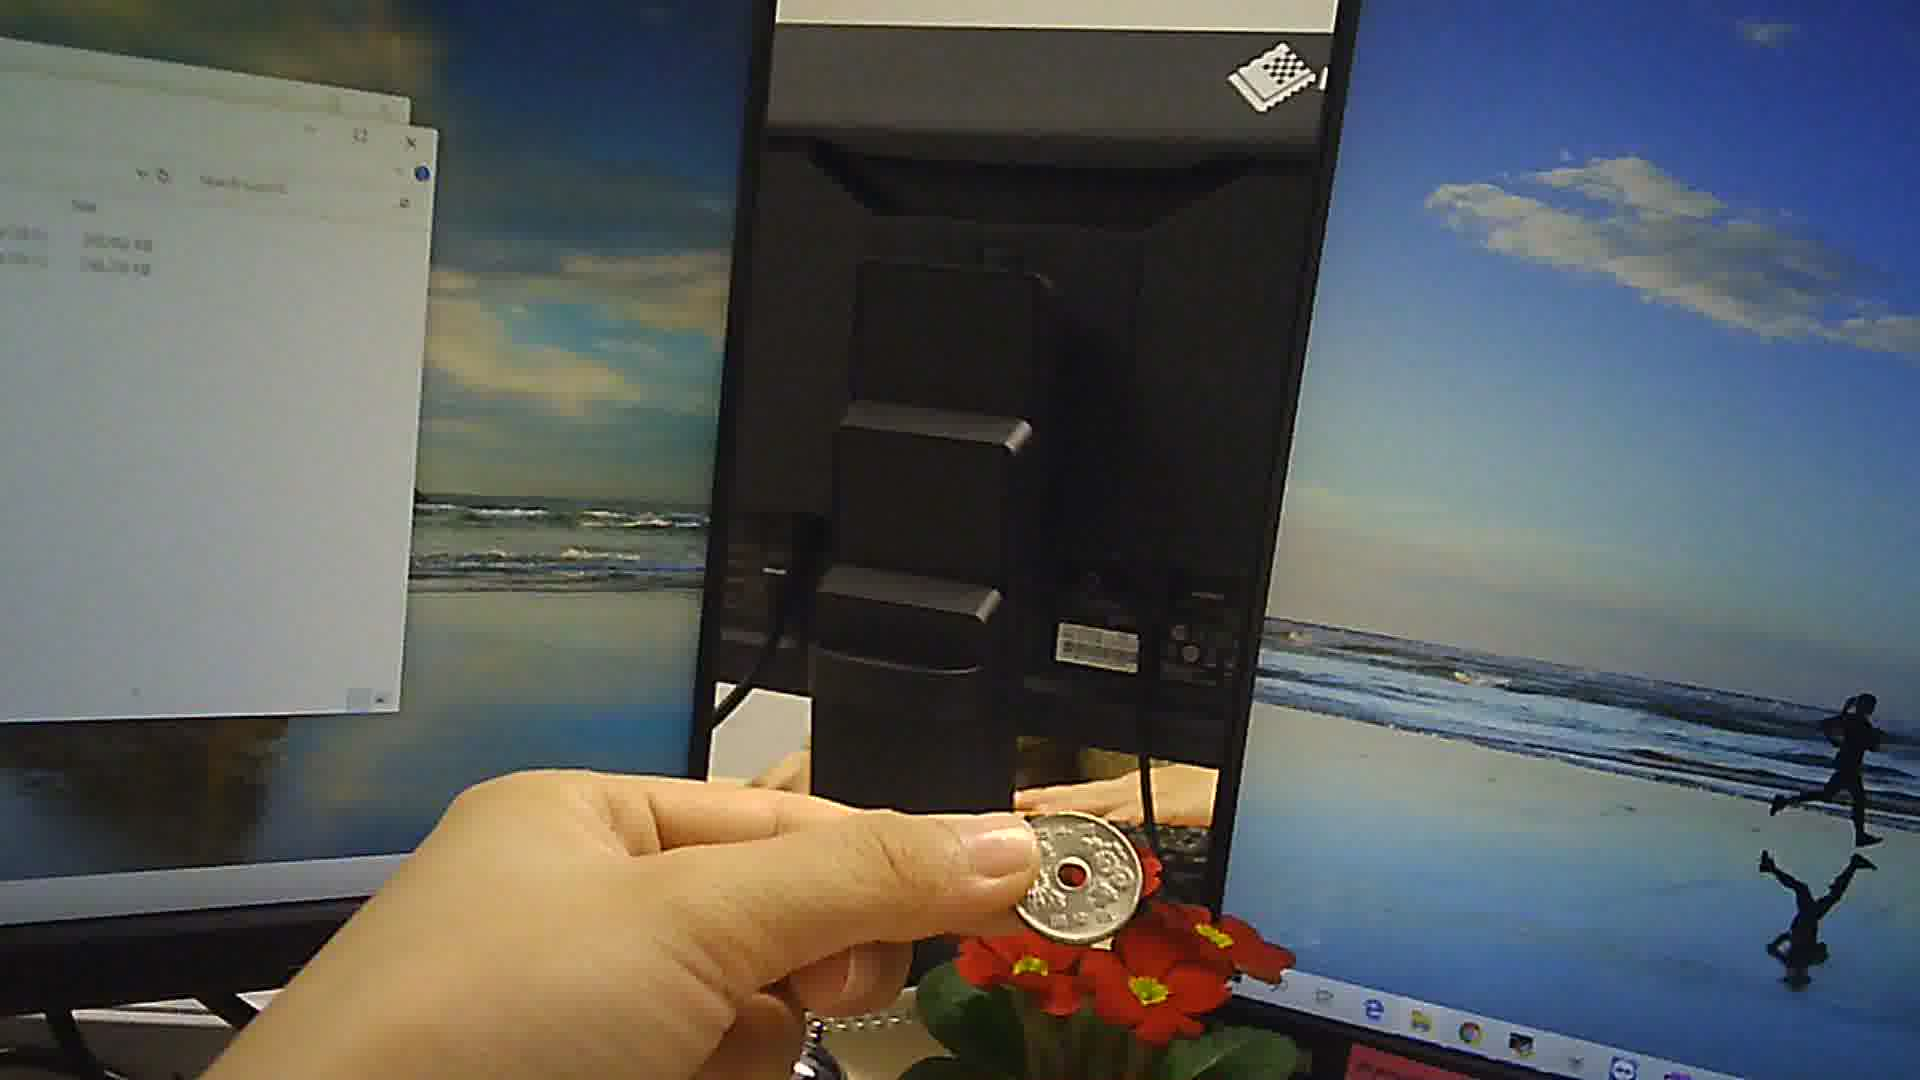50 Yen: (1010, 806, 1147, 945)
